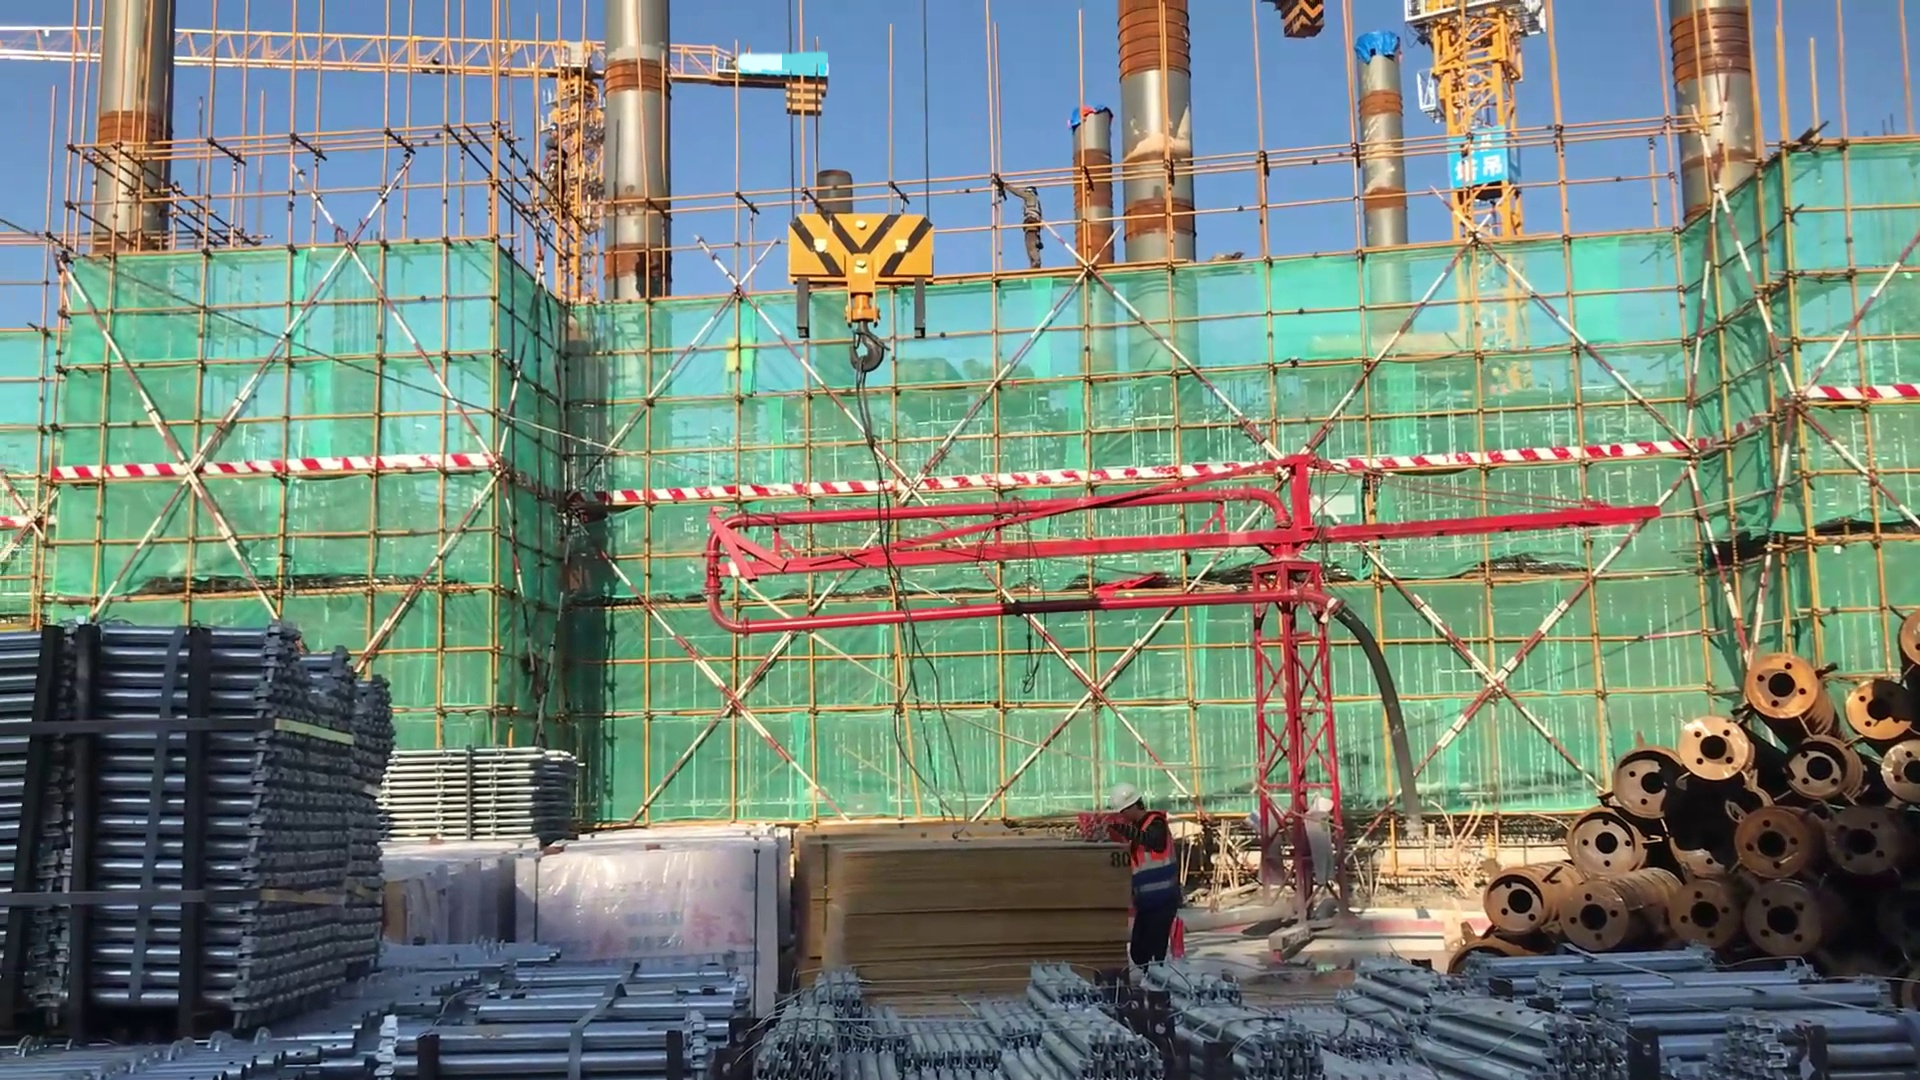board: (794, 822, 1126, 994)
helmet: (1105, 779, 1148, 813), (1022, 184, 1039, 199)
hook: (759, 185, 969, 396)
person: (1089, 786, 1200, 985), (989, 168, 1045, 283)
scaffold: (1, 598, 408, 1035), (1170, 949, 1920, 1076), (1, 942, 548, 1077), (759, 967, 1158, 1080), (412, 952, 754, 1074), (372, 730, 581, 846)
slogan: (1451, 124, 1508, 205)
vest: (1130, 811, 1184, 923)
